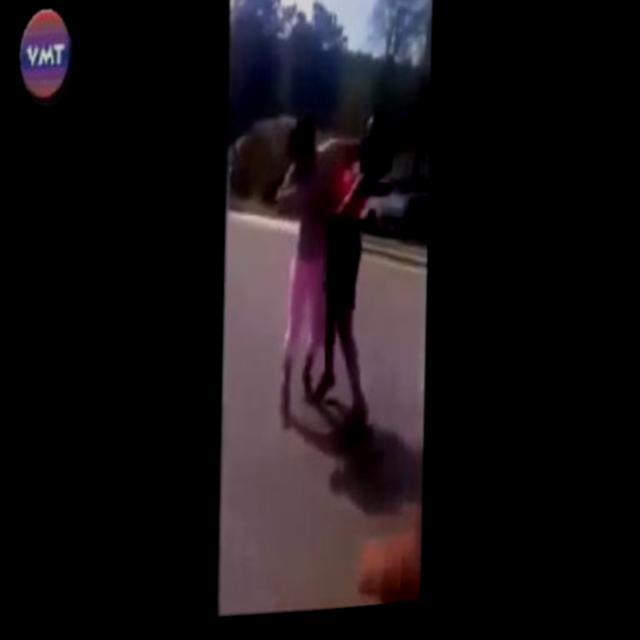fight: (260, 101, 408, 464)
